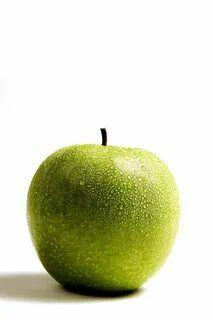Apple: (27, 146, 180, 298)
